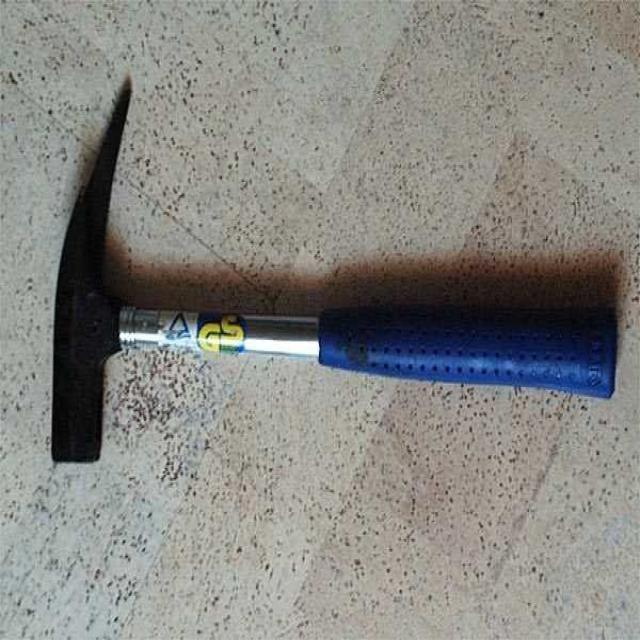hammer: (55, 90, 614, 463)
